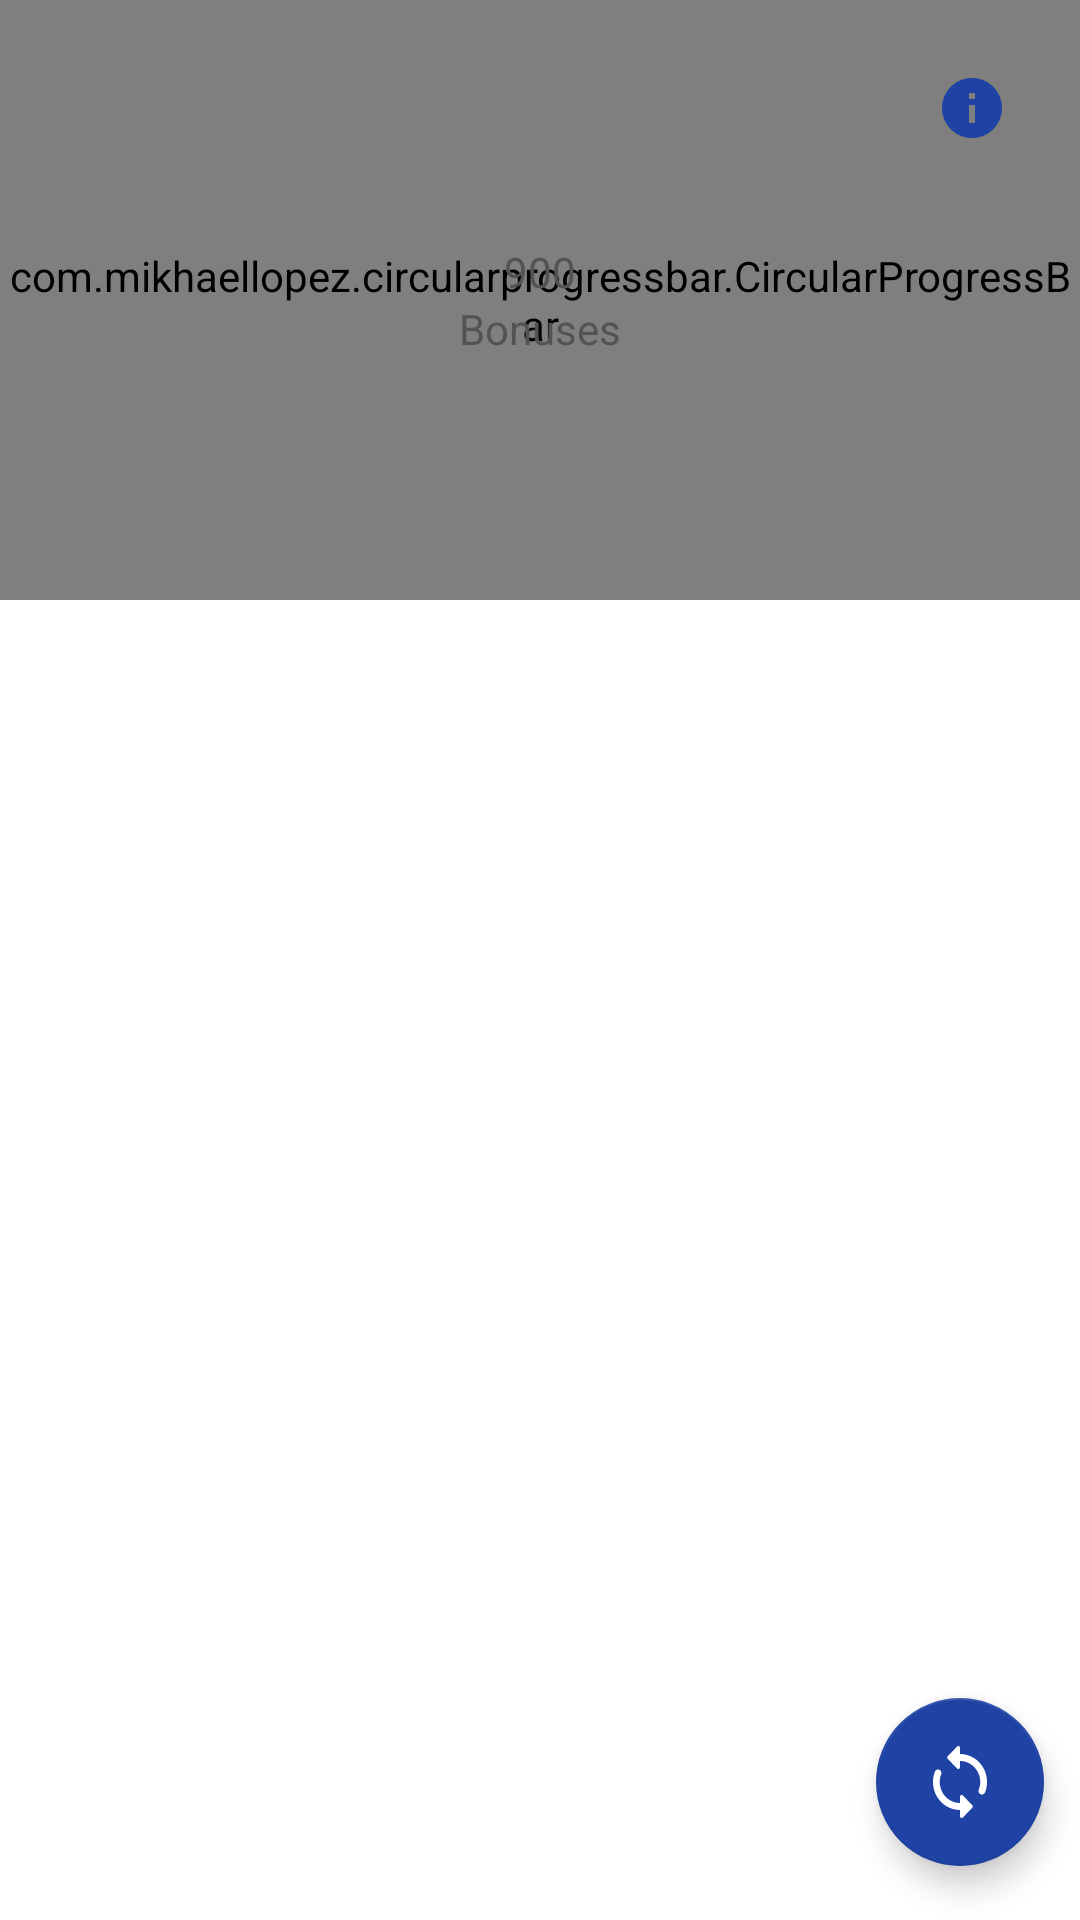

Screen size 1080*1920. Icon name, then its center in pixels as (x=x, y=y):
info: (x=972, y=108)
loop: (x=961, y=1791)
